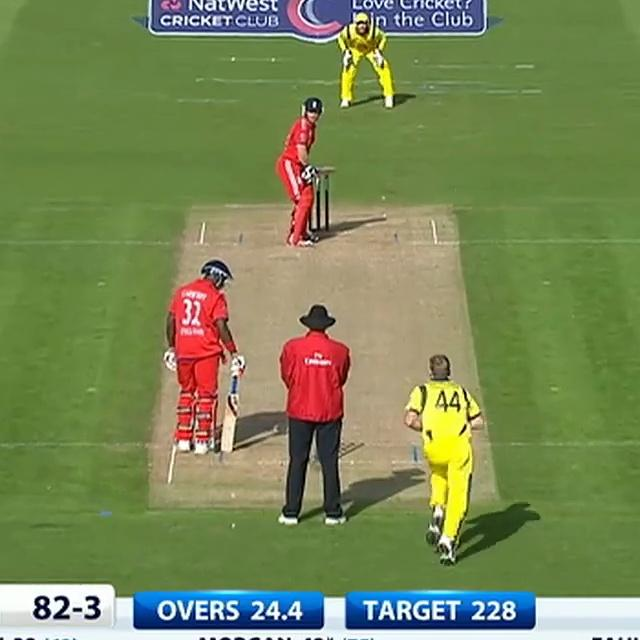umpire: (266, 297, 363, 528)
